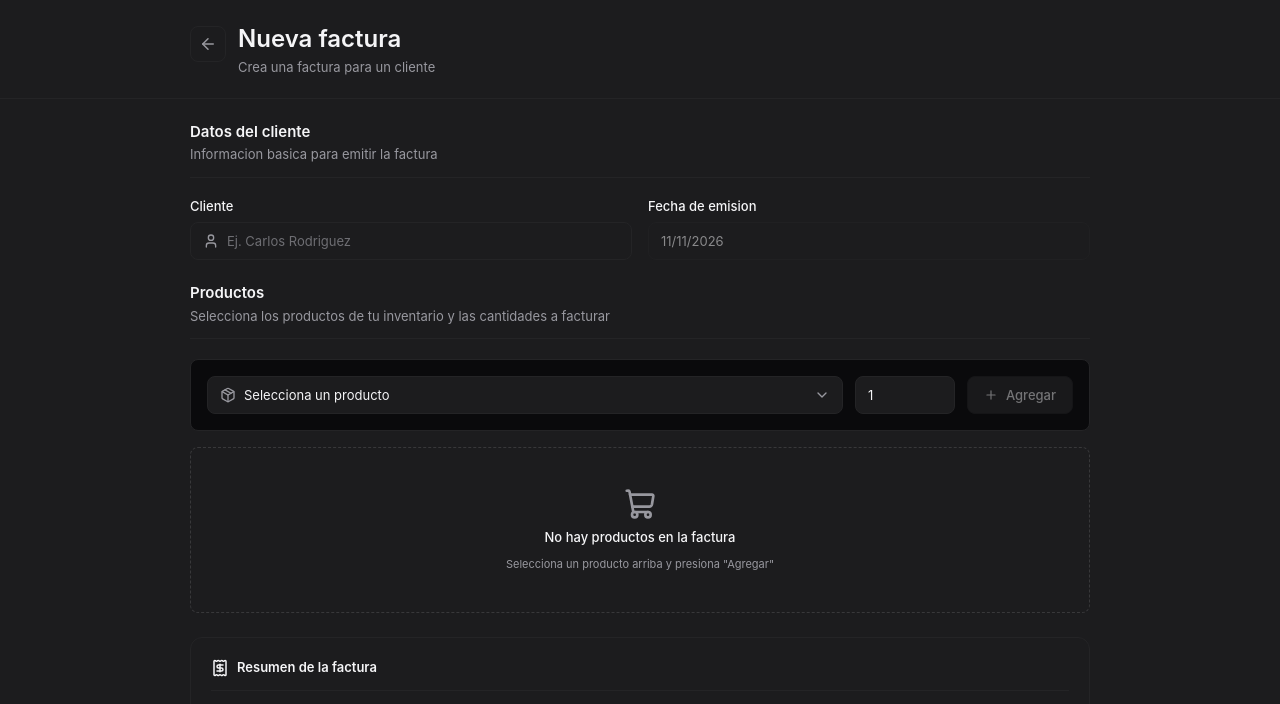
BillingNew › adds a product to the list
Step 1. Select "Camisa azul talla M - Bs.S 25,00" in the dropdown → (537,395), box [244,377,830,413]
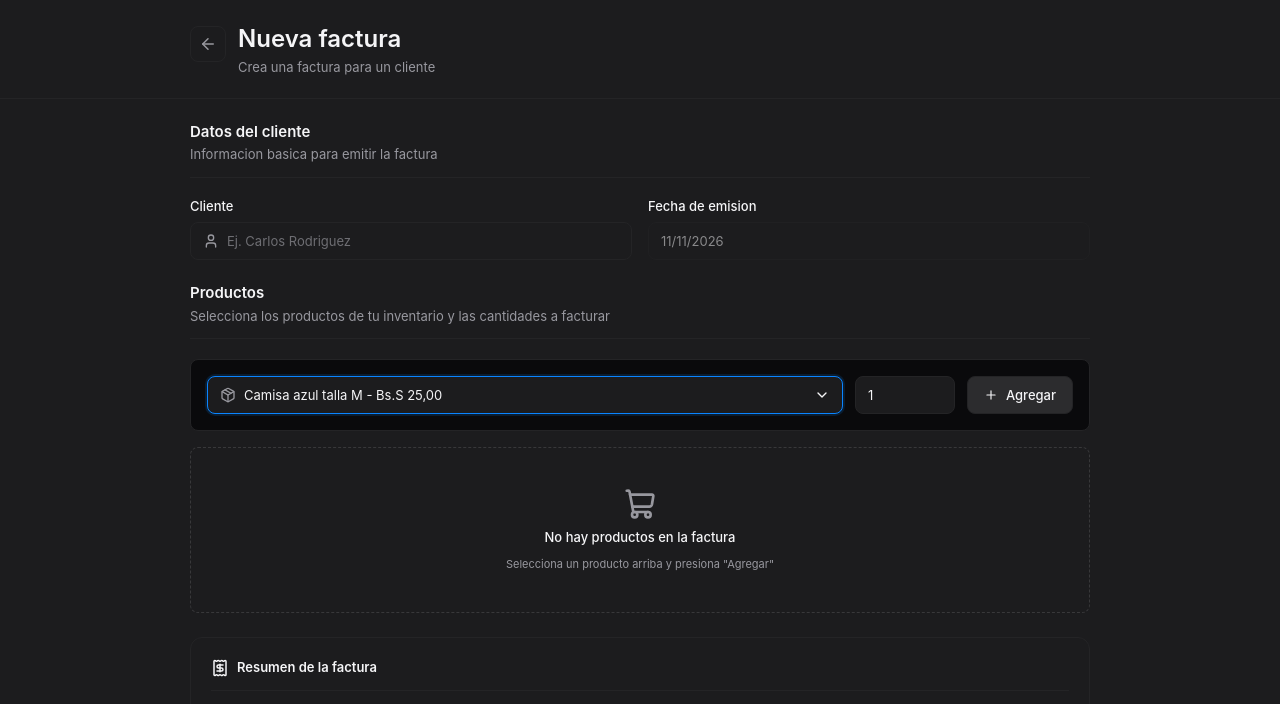
Step 2. Click the button "Agregar" → (1020,395), box [967,376,1073,414]
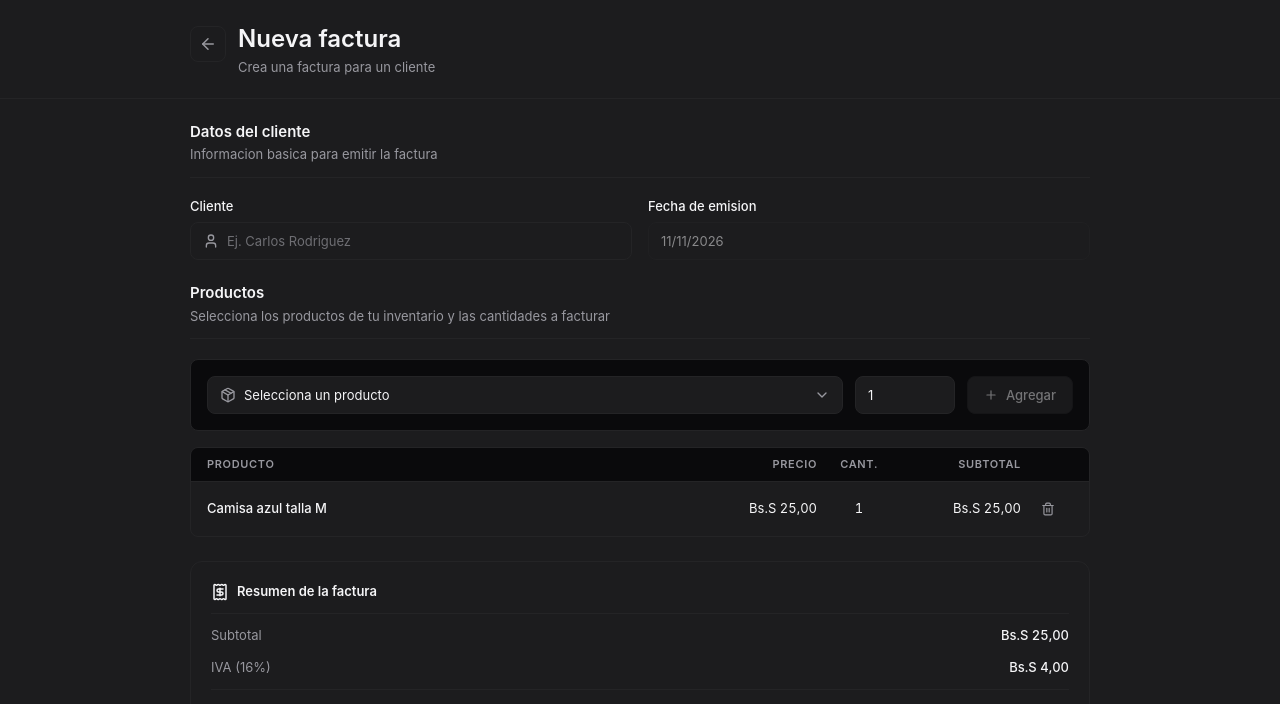
Now the text "Camisa azul talla M" is shown, box [207,500,327,516]
Now the text "No hay productos en la factura" is gone
